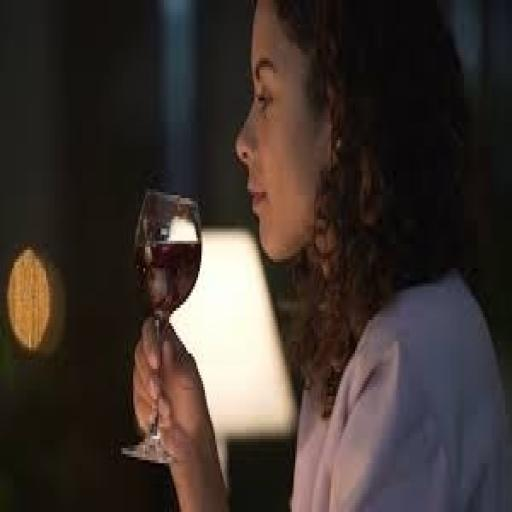drinking: (120, 186, 202, 463)
